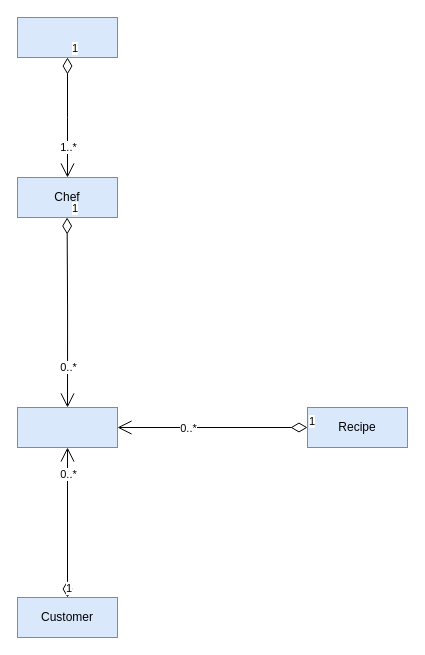
Image size: 425x655. Some labels were removed from this diagram. The centre of each missing label's shape, as x and y in pixels:
"Location" goes at (x=67, y=37).
"Reviews" goes at (x=67, y=427).
